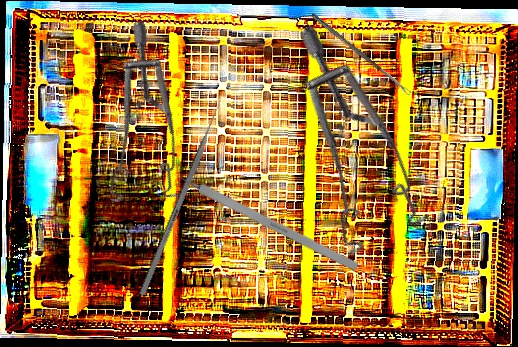Hook Surgical: (159, 163, 360, 273)
Pusher: (138, 94, 226, 297)
Speculum: (211, 22, 474, 279), (41, 18, 226, 227)
Surgical Spoon: (310, 12, 412, 97)
